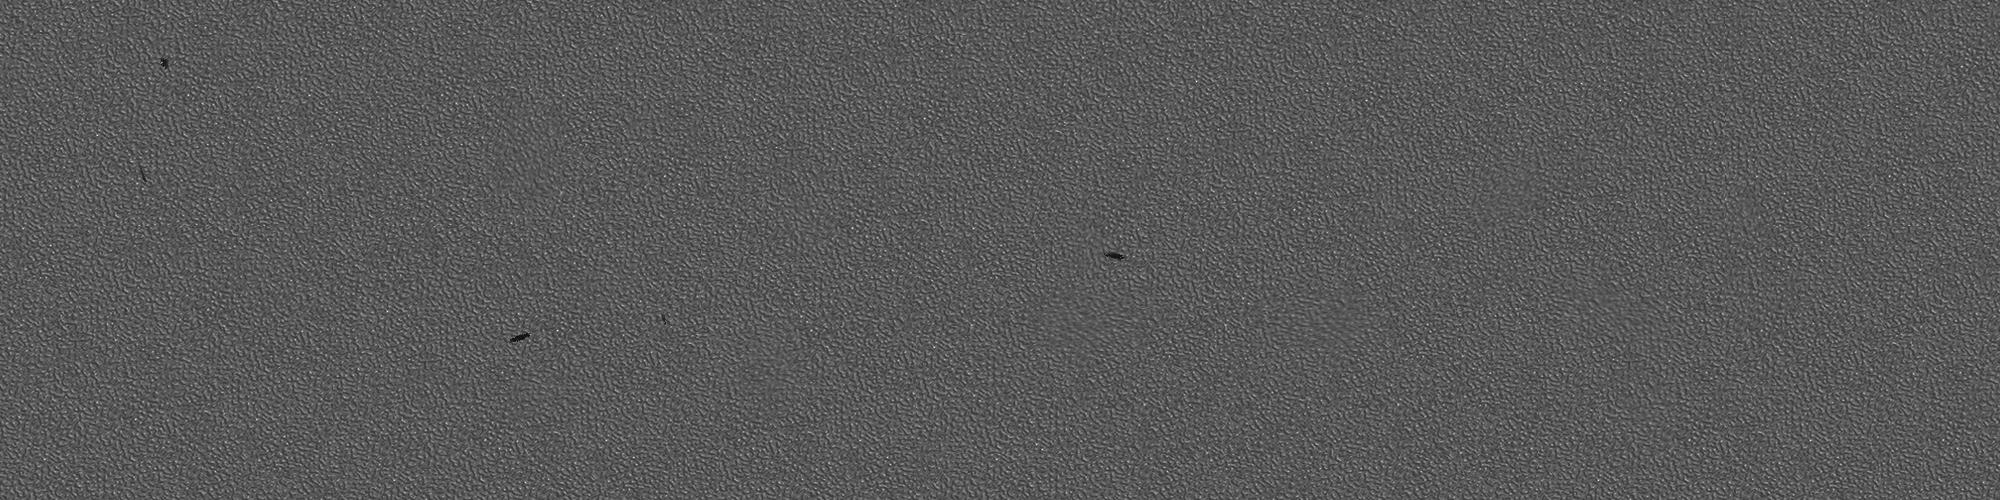Decomposed: (1102, 244, 1135, 272), (504, 329, 542, 353), (130, 154, 152, 185), (654, 309, 676, 327), (157, 56, 168, 68)
